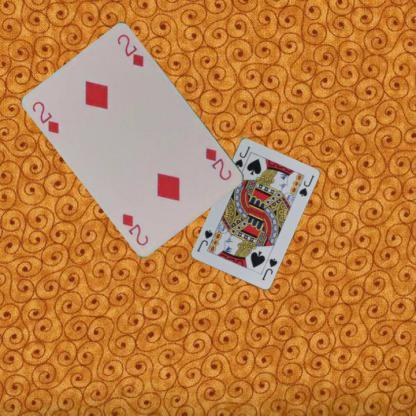2d: (203, 145, 234, 182), (30, 98, 61, 135)
Js: (258, 254, 278, 282), (232, 143, 252, 169)
